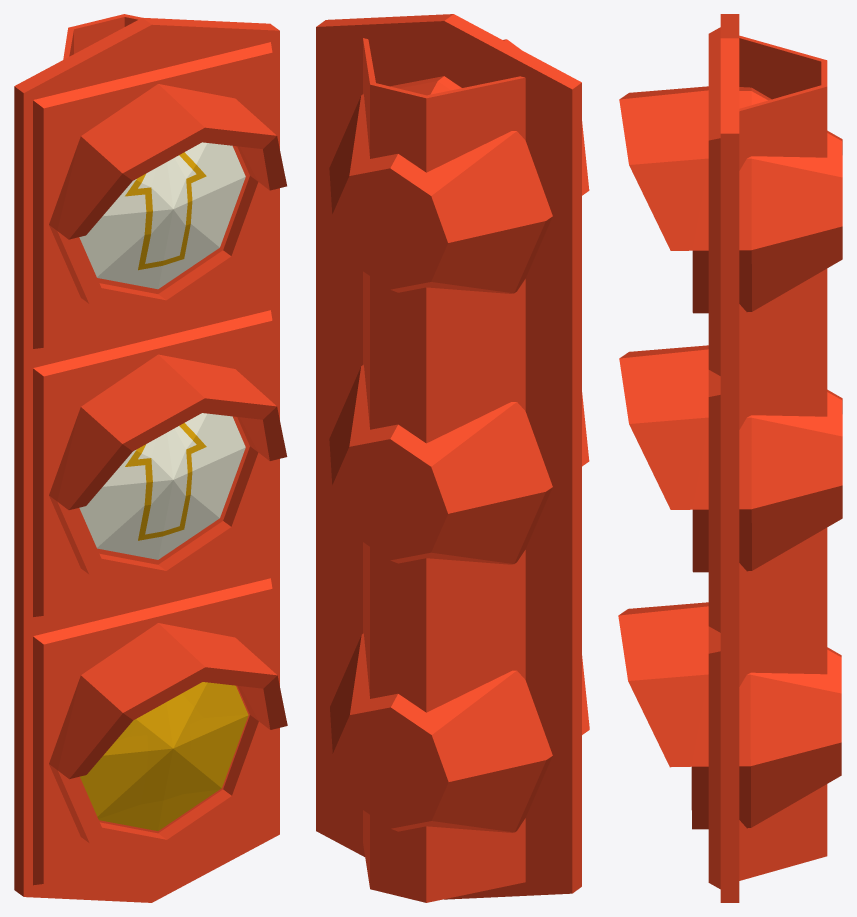
The model's file is SM_Traffic_Light_C_City.fbx.
The picture shows the model from 3 angles, left to right: view 1: azimuth 30°, elevation 25°; view 2: azimuth 150°, elevation 25°; view 3: azimuth 270°, elevation 25°; orthographic projection. The views are drawn at different scales.
Parts seen in each view (by area): view 1: SM_Traffic_Light_C_City; view 2: SM_Traffic_Light_C_City; view 3: SM_Traffic_Light_C_City.
Part boxes in pixels (bbox=[...]): SM_Traffic_Light_C_City: bbox=[14, 14, 287, 902]; SM_Traffic_Light_C_City: bbox=[316, 14, 589, 902]; SM_Traffic_Light_C_City: bbox=[618, 14, 842, 902].
Size of the model in its own units: 0.3467 by 1.14 by 0.2748.
